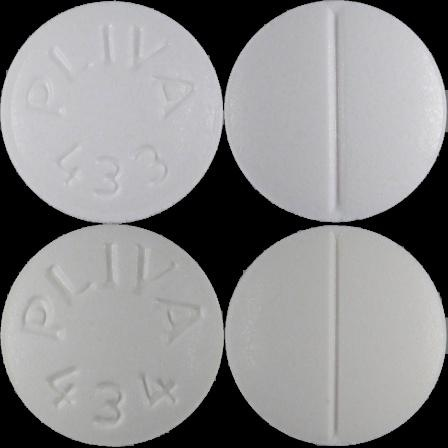76237-254: (0, 0, 224, 224)
